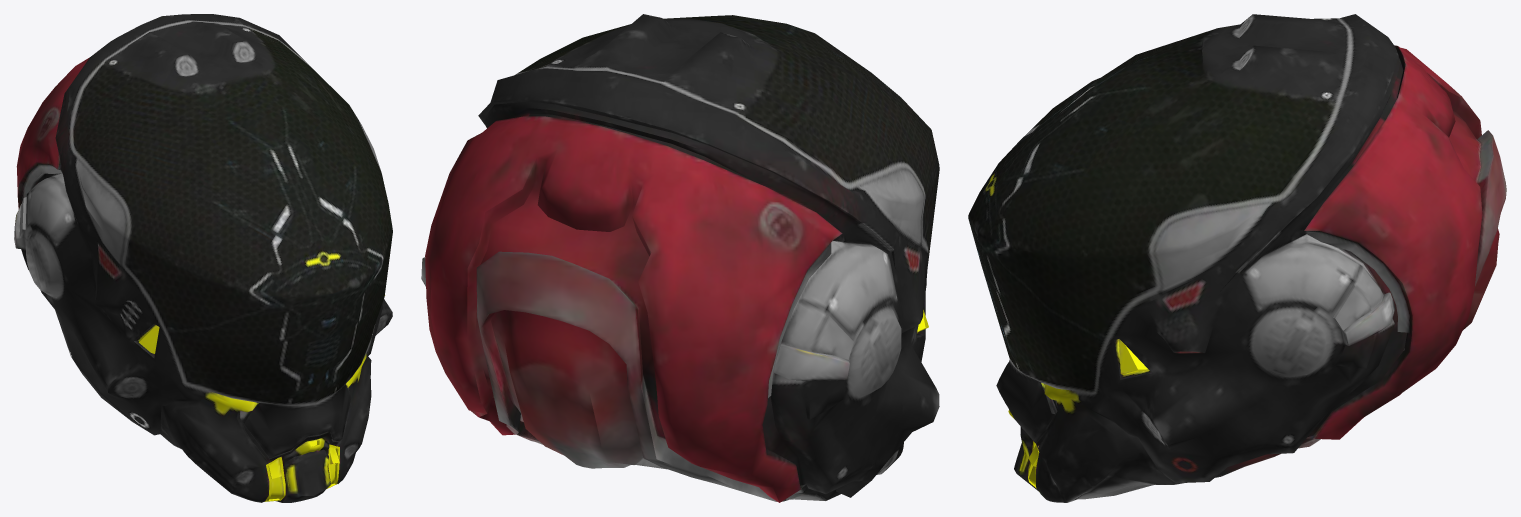
Rendered from helmet1.glb.
The picture shows the model from 3 angles, left to right: view 1: azimuth 30°, elevation 25°; view 2: azimuth 150°, elevation 25°; view 3: azimuth 270°, elevation 25°; orthographic projection. The views are drawn at different scales.
Visible parts, largest first — view 1: Plane.023; view 2: Plane.023; view 3: Plane.023.
Part boxes in pixels (left/top/right/bottom): Plane.023: left=14, top=14, right=392, bottom=502; Plane.023: left=421, top=14, right=939, bottom=502; Plane.023: left=968, top=14, right=1506, bottom=502.
Size of the model in its own units: 0.4518 by 0.5285 by 0.5705.
Materials: 1 (1 with a texture image).
